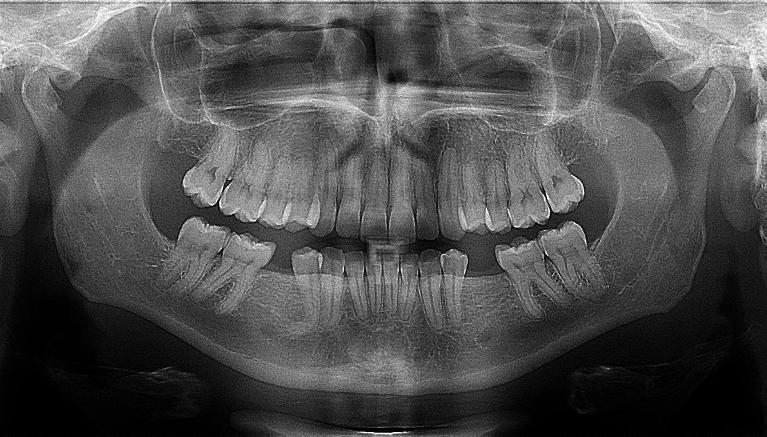canine: (431, 148, 471, 249), (417, 242, 444, 333), (312, 152, 339, 240), (319, 245, 345, 328)
incisor: (385, 150, 419, 247), (407, 163, 446, 243), (361, 157, 391, 245), (339, 242, 371, 318), (339, 148, 365, 239), (364, 241, 386, 323), (381, 238, 402, 317), (397, 246, 418, 323)
molar: (199, 210, 281, 325), (489, 232, 572, 319), (162, 206, 234, 296), (182, 122, 245, 211), (535, 221, 610, 295), (530, 125, 589, 217), (499, 135, 554, 229), (221, 135, 278, 223)
premolar: (454, 139, 492, 243), (481, 149, 517, 236), (285, 147, 320, 236), (262, 138, 294, 231), (439, 245, 472, 332), (291, 244, 322, 324)
